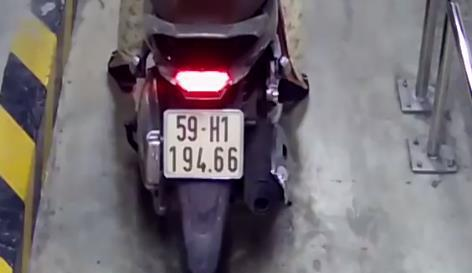lisence: (163, 107, 246, 179)
